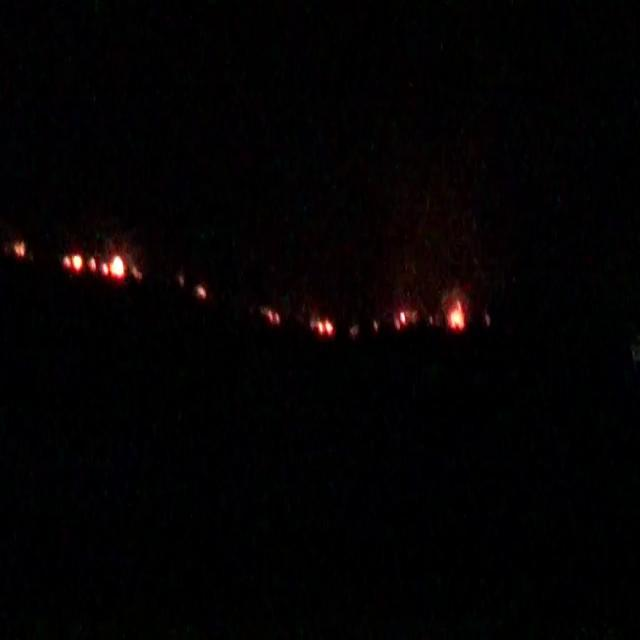Fire: (65, 249, 133, 279), (444, 284, 466, 330)
